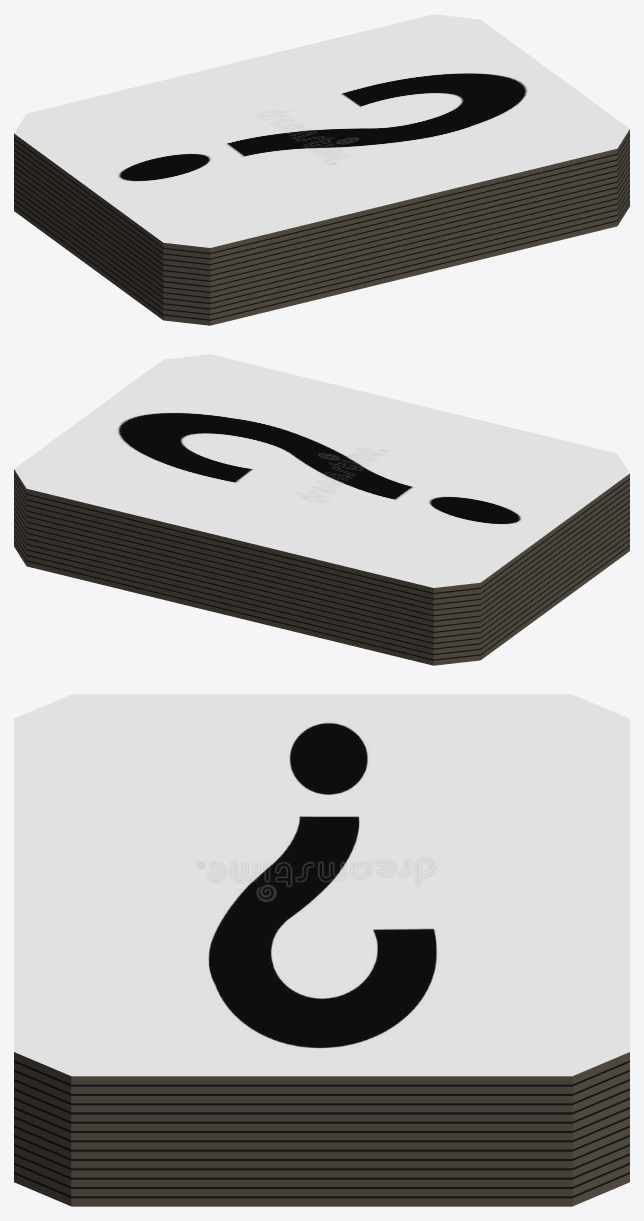
The model's file is card_deck.obj.
The picture shows the model from 3 angles, top to bottom: view 1: azimuth 30°, elevation 25°; view 2: azimuth 150°, elevation 25°; view 3: azimuth 270°, elevation 25°; orthographic projection. The views are drawn at different scales.
Visible parts, largest first — view 1: Куб; view 2: Куб; view 3: Куб.
Part boxes in pixels (box(x1,y1,x2,y2)): Куб: box(14, 14, 629, 325); Куб: box(14, 354, 629, 665); Куб: box(14, 694, 629, 1206).
Bounding box in the file's own units: 1.8 × 0.2871 × 1.23.
